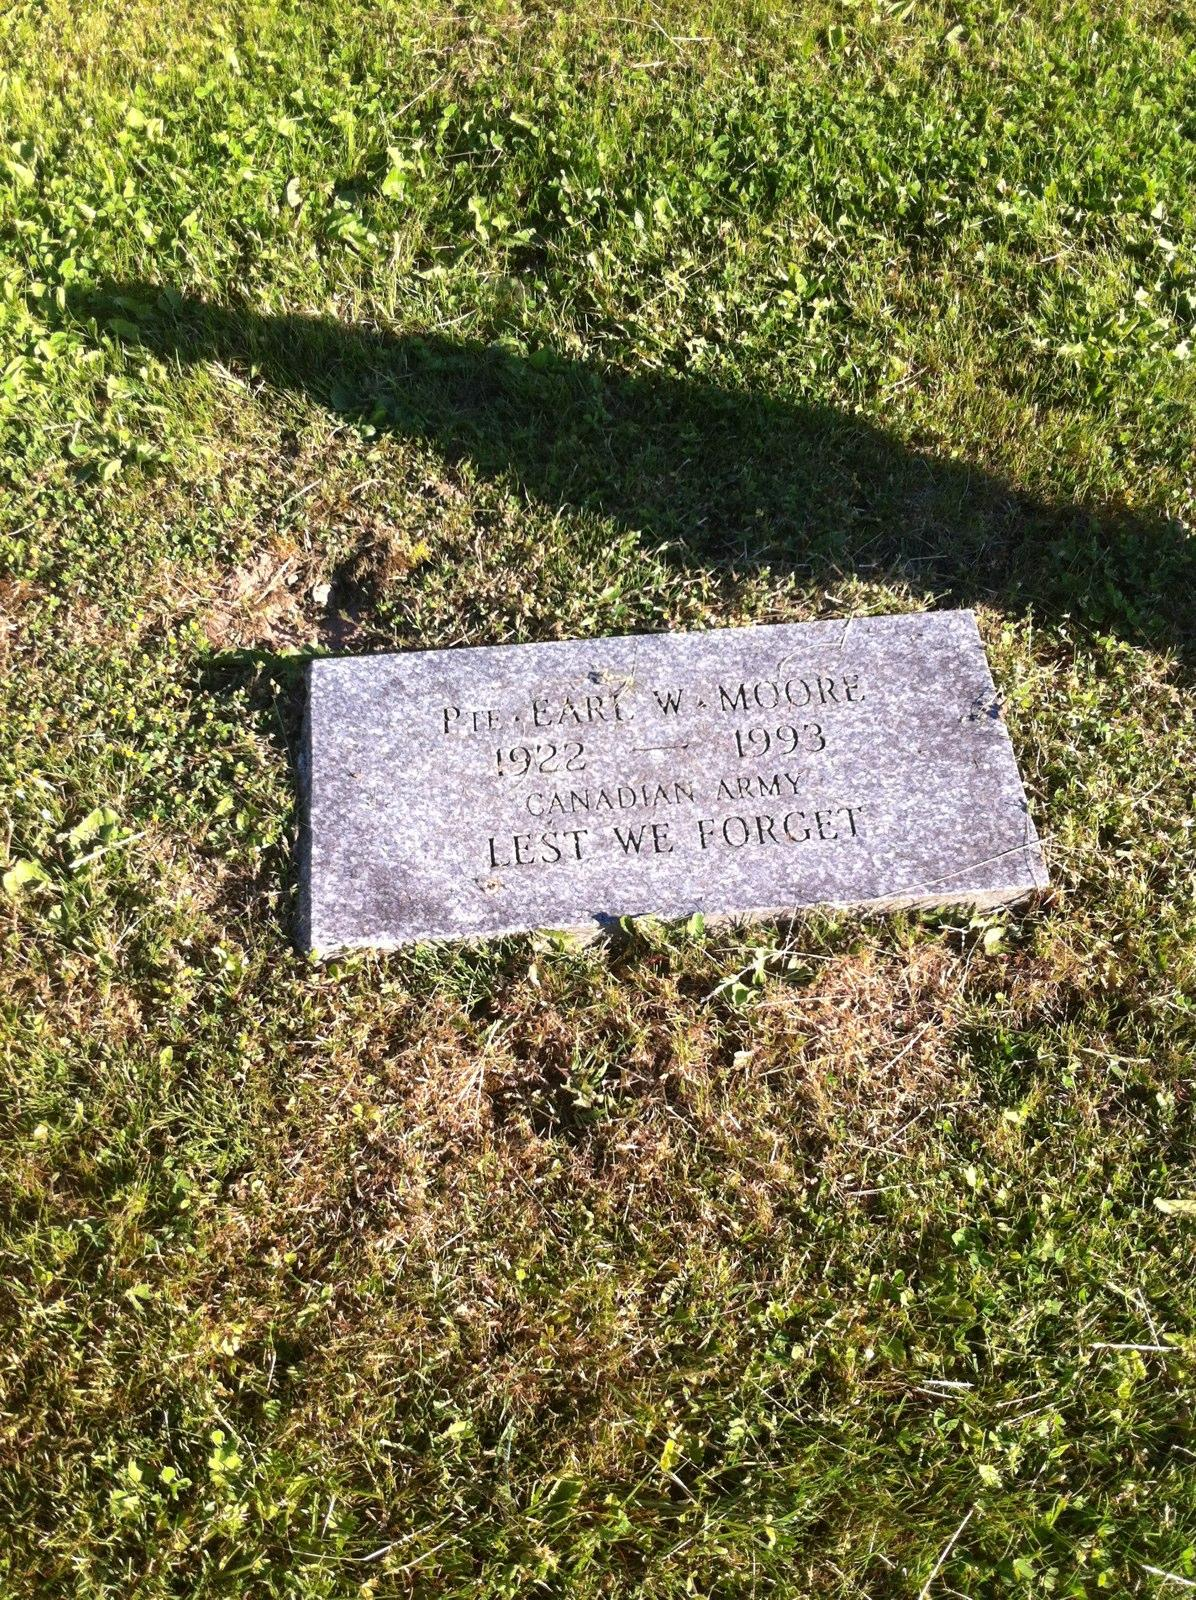flat: (296, 602, 1048, 963)
